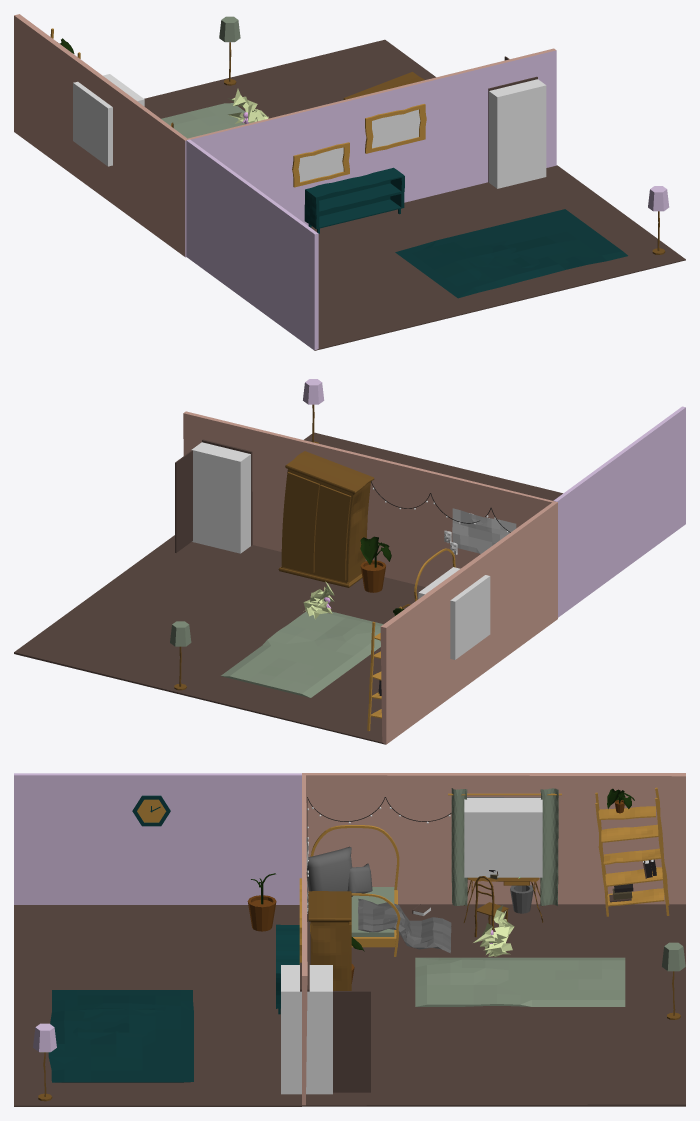
Rendered from room_norah.fbx.
3 renders of one model, top to bottom at view 1: azimuth 30°, elevation 25°; view 2: azimuth 150°, elevation 25°; view 3: azimuth 270°, elevation 25°, orthographic. The views are drawn at different scales.
Visible parts, largest first — view 1: Room, Room_2, Rug.001, Door.003, Cube.008, Window, Rug, Plane.004, Plane.005, Picture_Frame, Picture_Frame.001, Closet; view 2: Room, Room_2, Rug, Door.003, Closet, Door.002, Door.001, Window, Wall_Decoration, Door.004, Pot.001; view 3: Room, Room_2, Rug.001, Rug, Window, Door.003, Door.004, Closet, Blanket, Curtain, Curtain.001, Pillow.001 (+15 smaller).
Boxes of the visible parts, x1,y1,x2,y2 form: Room: (14, 14, 556, 257); Room_2: (186, 139, 685, 350); Rug.001: (395, 209, 627, 298); Door.003: (489, 79, 546, 188); Cube.008: (304, 167, 404, 233); Window: (73, 74, 144, 166); Rug: (161, 103, 245, 138); Plane.004: (372, 109, 420, 148); Plane.005: (298, 147, 343, 181); Picture_Frame: (365, 104, 426, 153); Picture_Frame.001: (292, 142, 349, 187); Closet: (343, 72, 424, 99); Room: (14, 411, 557, 744); Room_2: (304, 406, 685, 617); Rug: (221, 611, 383, 697); Door.003: (191, 442, 250, 553); Closet: (278, 451, 374, 587); Door.002: (281, 472, 320, 572); Door.001: (314, 484, 351, 580); Window: (418, 567, 490, 659); Wall_Decoration: (452, 508, 516, 553); Door.004: (175, 450, 192, 552); Pot.001: (360, 560, 385, 592); Room: (302, 773, 685, 1106); Room_2: (14, 773, 301, 1106); Rug.001: (48, 990, 193, 1082); Rug: (415, 957, 625, 1006); Window: (464, 798, 542, 877); Door.003: (281, 965, 332, 1094); Door.004: (333, 991, 370, 1092); Closet: (308, 891, 351, 990); Blanket: (358, 898, 451, 953); Curtain: (540, 788, 558, 905); Curtain.001: (451, 788, 467, 905); Pillow.001: (306, 846, 352, 891).
Bounding box in the file's own units: 2031 × 615 × 2799.
